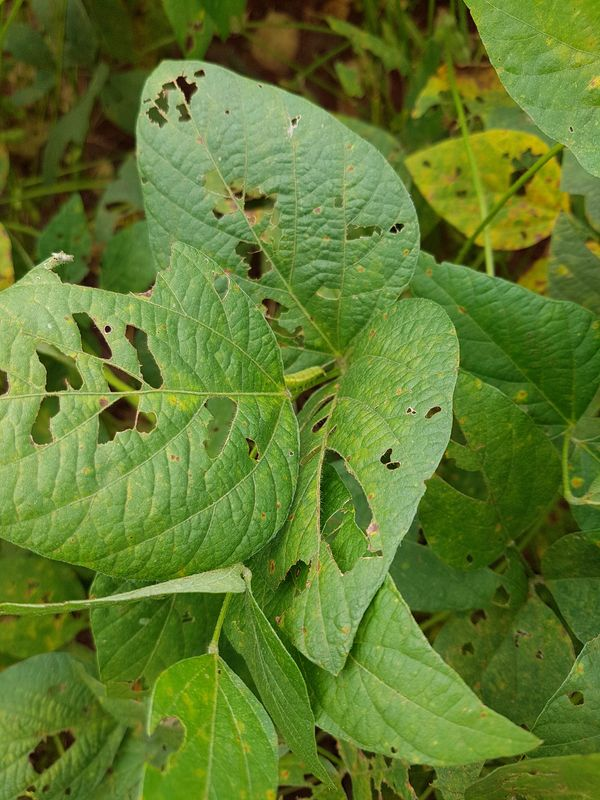Anticarsia_gemmatalis: (272, 359, 336, 393)
